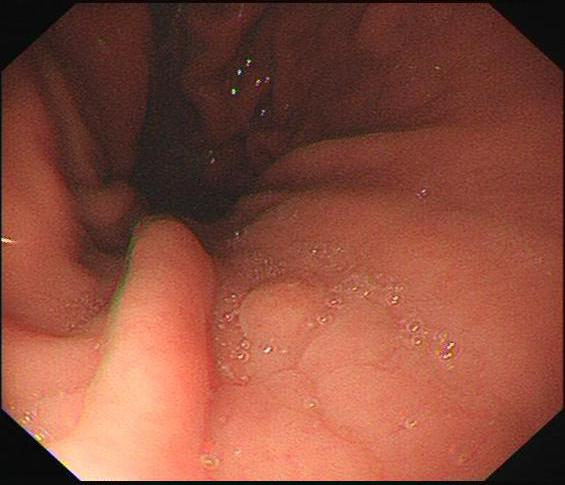Polyp: (236, 275, 333, 346)
